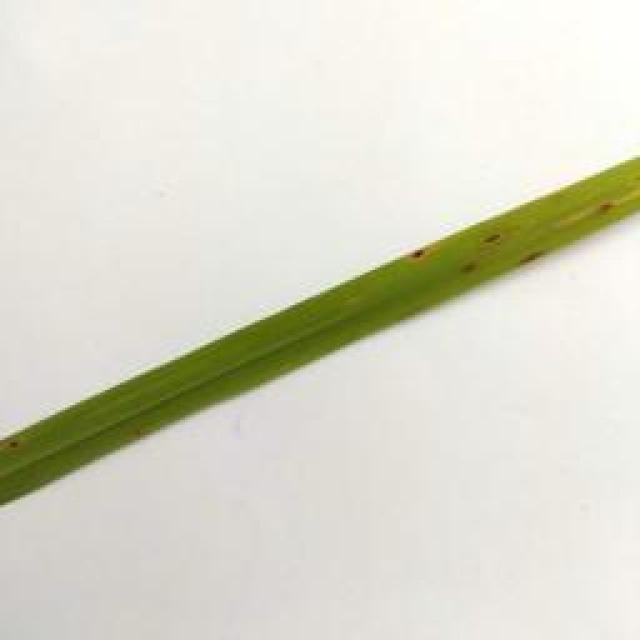Brown_Spot: (398, 240, 440, 270), (0, 426, 32, 461), (127, 422, 150, 460), (595, 190, 622, 222), (516, 249, 554, 271), (458, 253, 482, 279), (482, 228, 510, 250)
